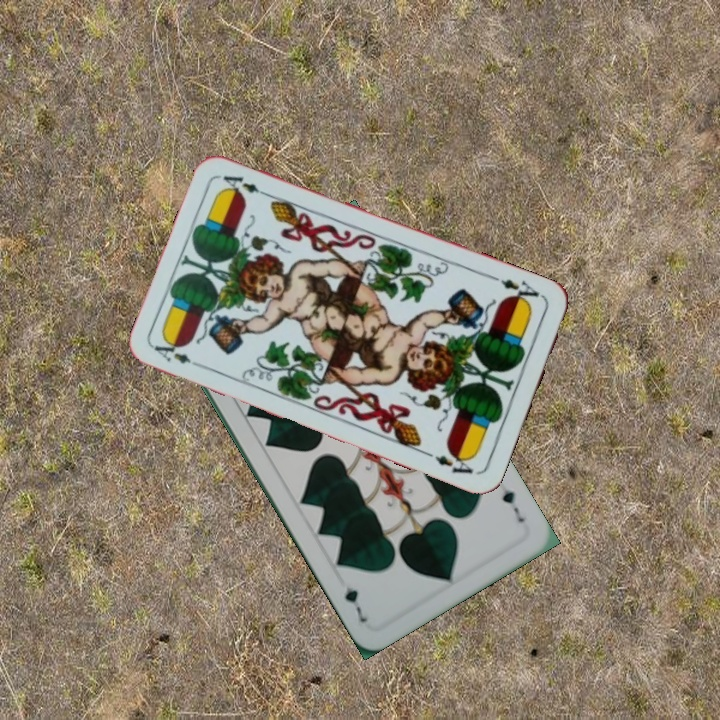EA: (150, 335, 207, 372), (489, 272, 546, 307)
G7: (498, 485, 527, 525)
